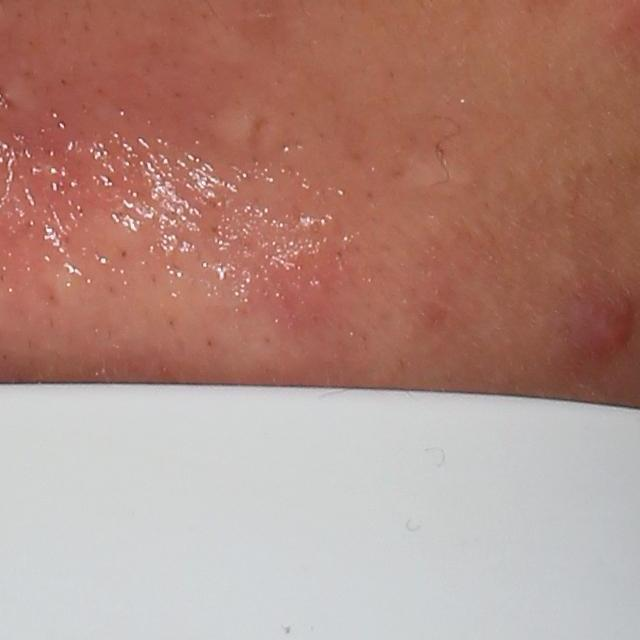atrophic_scar: (246, 112, 266, 163)
hypertrophic_scar: (403, 147, 473, 194), (211, 108, 256, 145)
papule: (580, 285, 639, 355)
